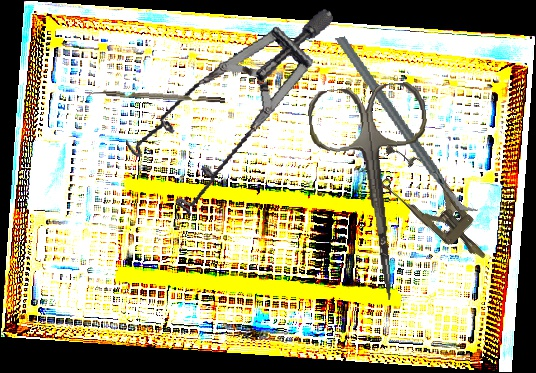Chopper: (334, 16, 478, 233), (86, 88, 226, 110)
Iris Scissors: (306, 80, 445, 307)
Speculum: (108, 6, 365, 227), (358, 131, 505, 278)
